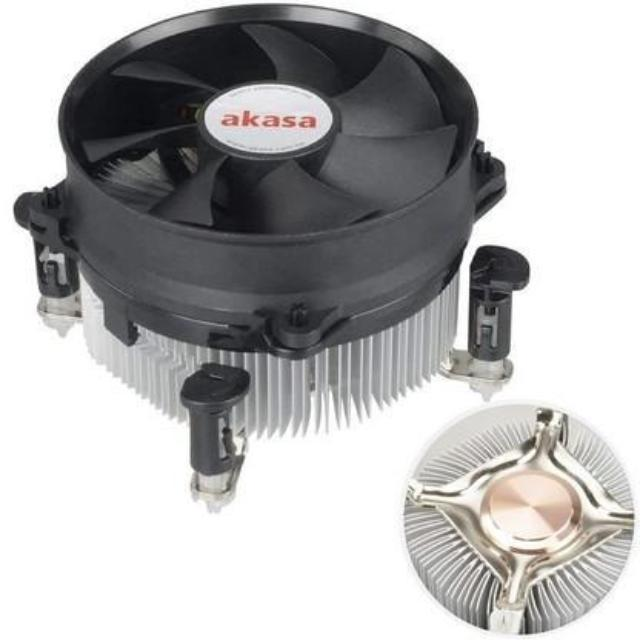CPU_Fan: (10, 0, 532, 498)
